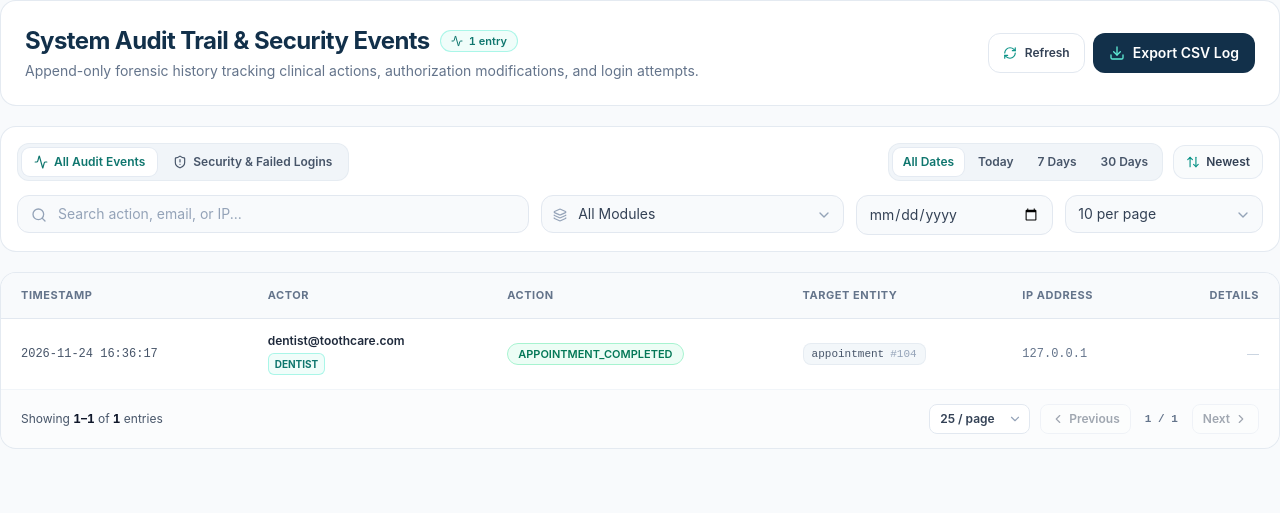
Scenario: Administrator Control Center Frontend Suite › uses a single calendar date filter, supports Security stream pagination, and exports filtered CSV
Later steps or results of the test are not shown.
Check: the text "APPOINTMENT_COMPLETED" is shown, box [507,342,684,364]
// Selecting a date sends matching single-day date_from & date_to
Type "2026-11-24" into the date field named "Filter by date" at (955, 215), box [856,195,1053,235]
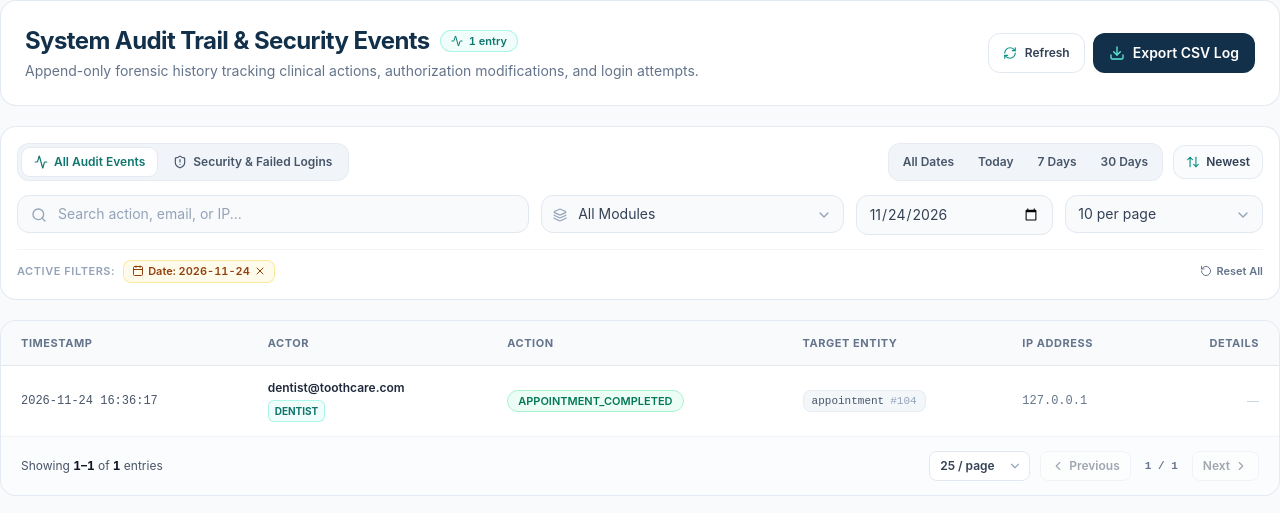
// Switch to Security & Failed Logins stream and export CSV
Click the tab "Security & Failed Logins" at (253, 162), box [161,148,344,176]
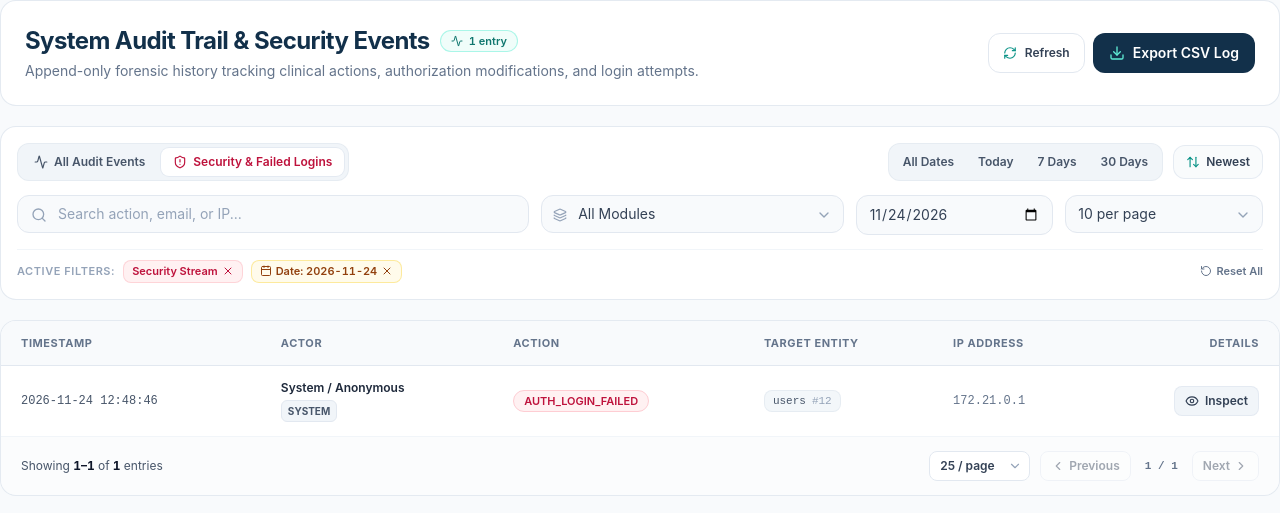
Check: the text "AUTH_LOGIN_FAILED" is shown, box [513,390,649,412]
